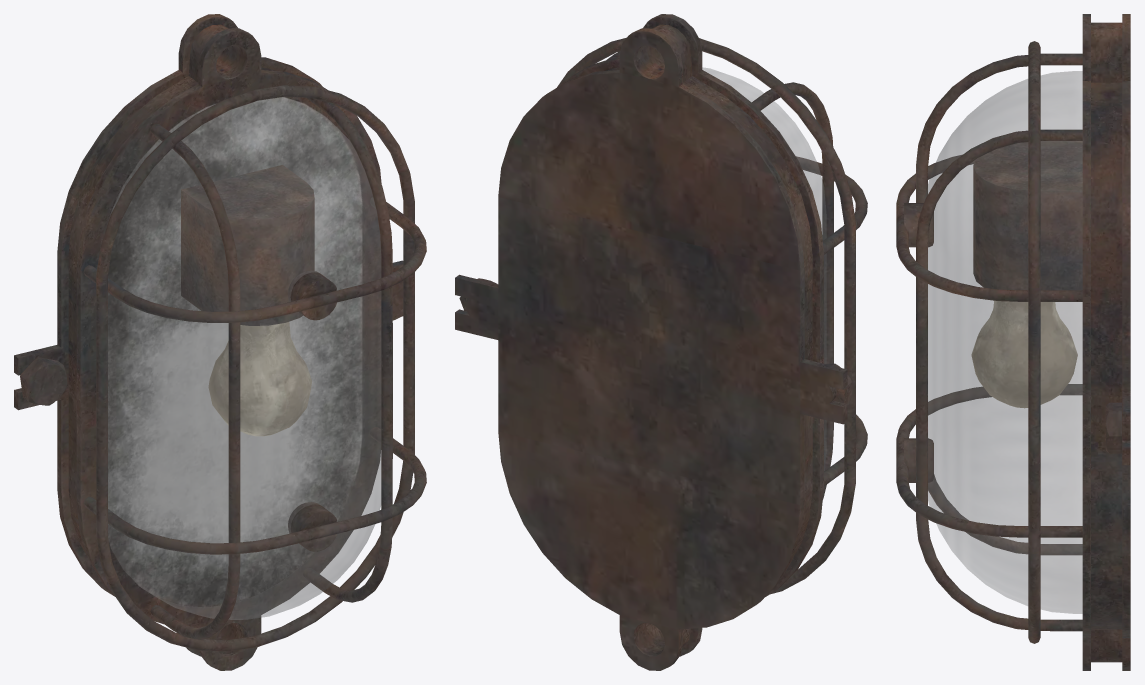
The model's file is industrial_wall_lamp.optimized.glb.
3 views of the same model, side by side, from view 1: azimuth 30°, elevation 25°; view 2: azimuth 150°, elevation 25°; view 3: azimuth 270°, elevation 25° (orthographic).
Visible parts, largest first — view 1: industrial_wall_lamp; view 2: industrial_wall_lamp; view 3: industrial_wall_lamp.
Part boxes in pixels (box(x1,y1,x2,y2)): industrial_wall_lamp: box(14, 14, 426, 670); industrial_wall_lamp: box(455, 14, 867, 670); industrial_wall_lamp: box(896, 14, 1130, 670).
Bounding box in the file's own units: 0.2734 × 0.4299 × 0.1404.
Materials: 2 (2 with a texture image).
